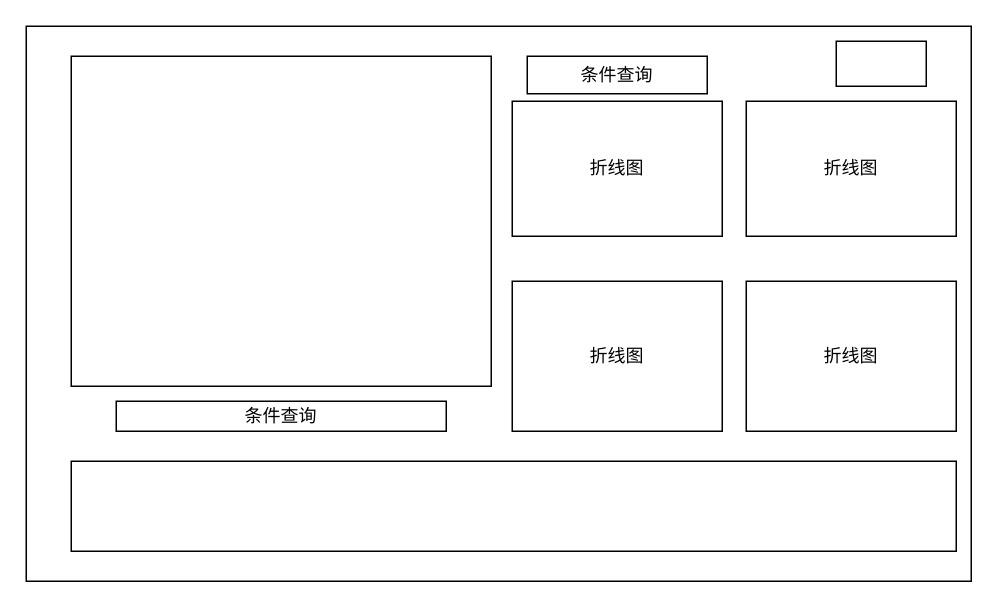
Image size: 998x608. Some labels were removed from this diagram. Each missing label, with the centre of its shape:
区域详情按钮: pixel 880 63
地图: pixel 280 220
